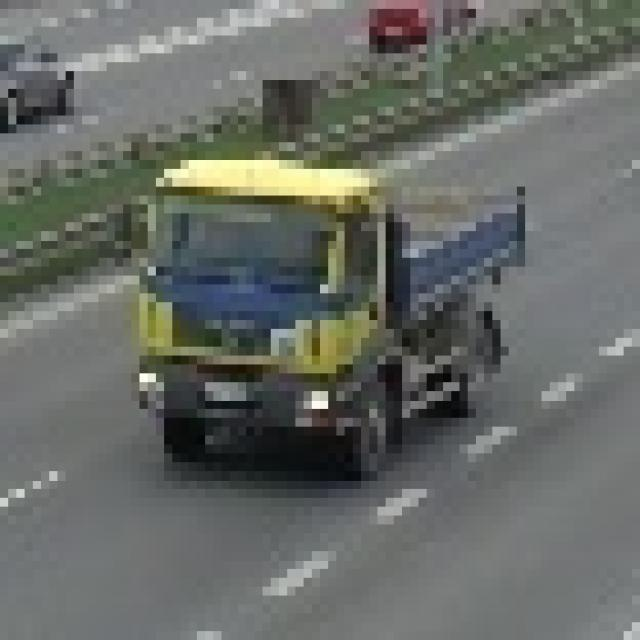truck: (106, 133, 518, 471)
